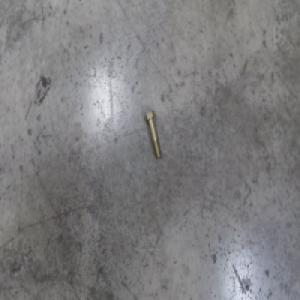Bolt: (140, 112, 158, 161)
